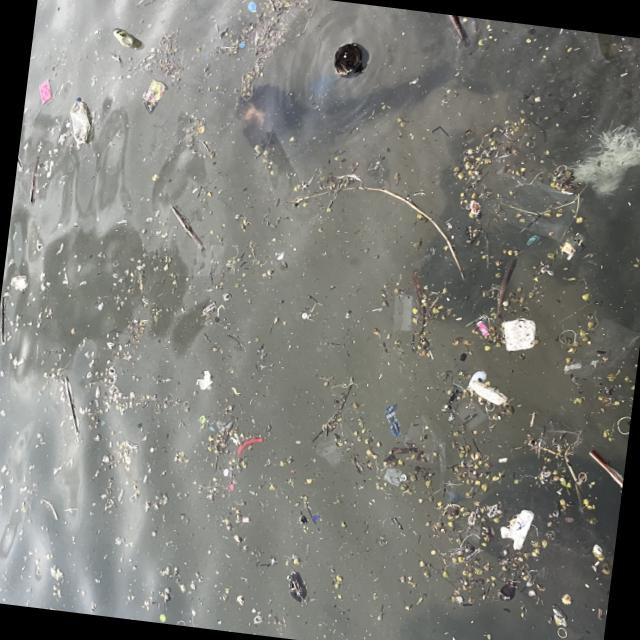foam: (498, 507, 536, 553), (470, 381, 510, 407)
plastic bottle: (68, 98, 95, 146), (112, 26, 134, 46)
